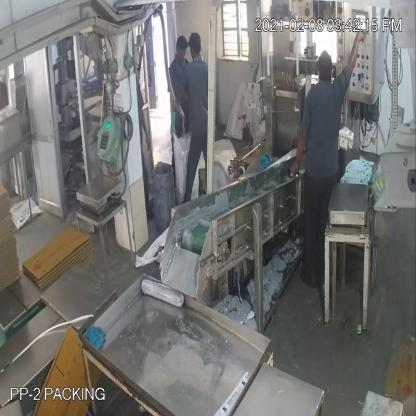no_glove: (338, 25, 369, 90), (284, 118, 312, 183)
